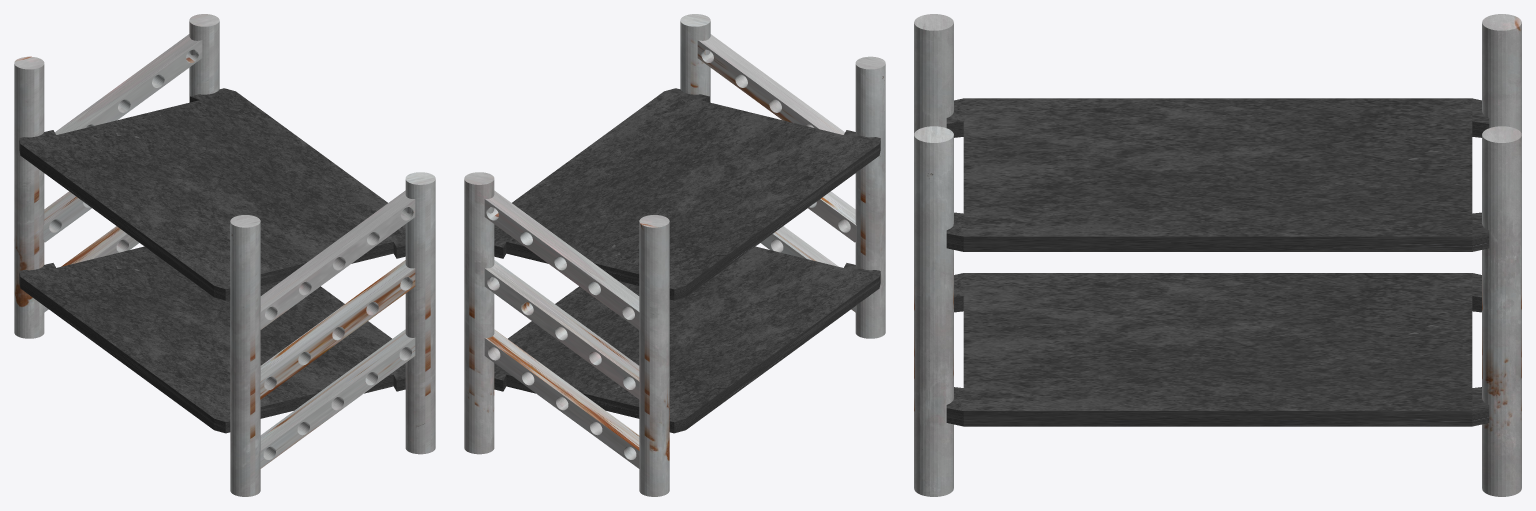
File: FIXED.glb
3 views of the same model, side by side, from view 1: azimuth 30°, elevation 25°; view 2: azimuth 150°, elevation 25°; view 3: azimuth 270°, elevation 25° (orthographic). The views are drawn at different scales.
Visible parts, largest first — view 1: Frame, Cube.001, Cube; view 2: Frame, Cube.001, Cube; view 3: Cube.001, Cube, Frame.
Boxes of the visible parts, x1,y1,x2,y2 form: Frame: (14,14,435,496); Cube.001: (19,88,405,300); Cube: (19,246,405,433); Frame: (464,14,885,496); Cube.001: (494,88,880,300); Cube: (494,246,880,433); Cube.001: (946,98,1489,251); Cube: (946,273,1489,426); Frame: (914,14,1521,496).
Bounding box in the file's own units: 6.25 × 7.47 × 11.62.
Materials: 3 (3 with a texture image).
